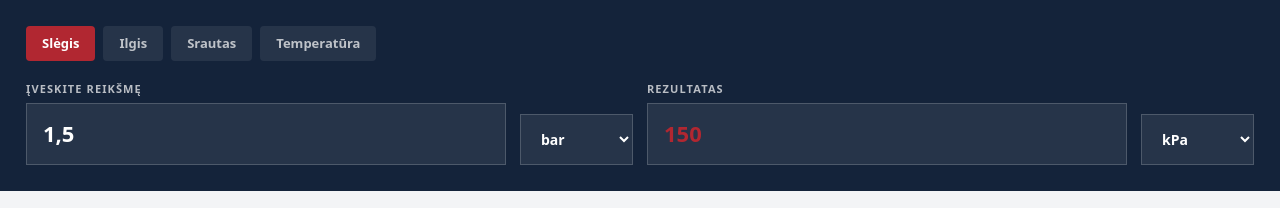
Test: UnitConverter › switches quantity to Temperature and converts °C → °F
Click the button "Temperatūra" at [318, 43], box [260,26,376,61]
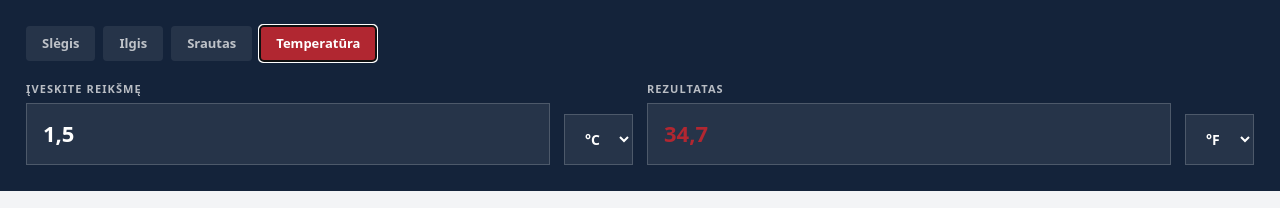
Replace the text in the field showing "1,5" with "100" at [288, 134], box [26,103,550,165]
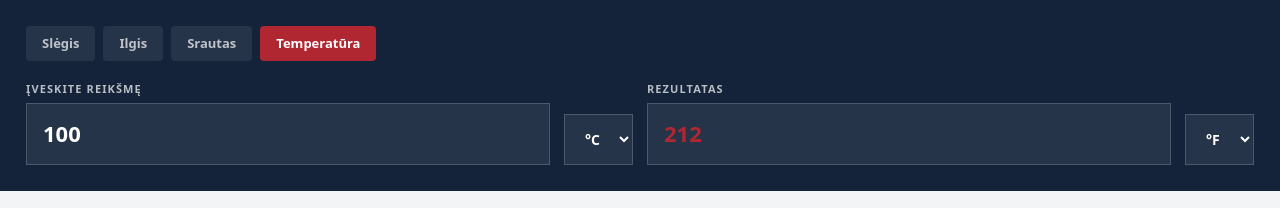
Expected: the text "212" is shown, [647,103,1171,165]
